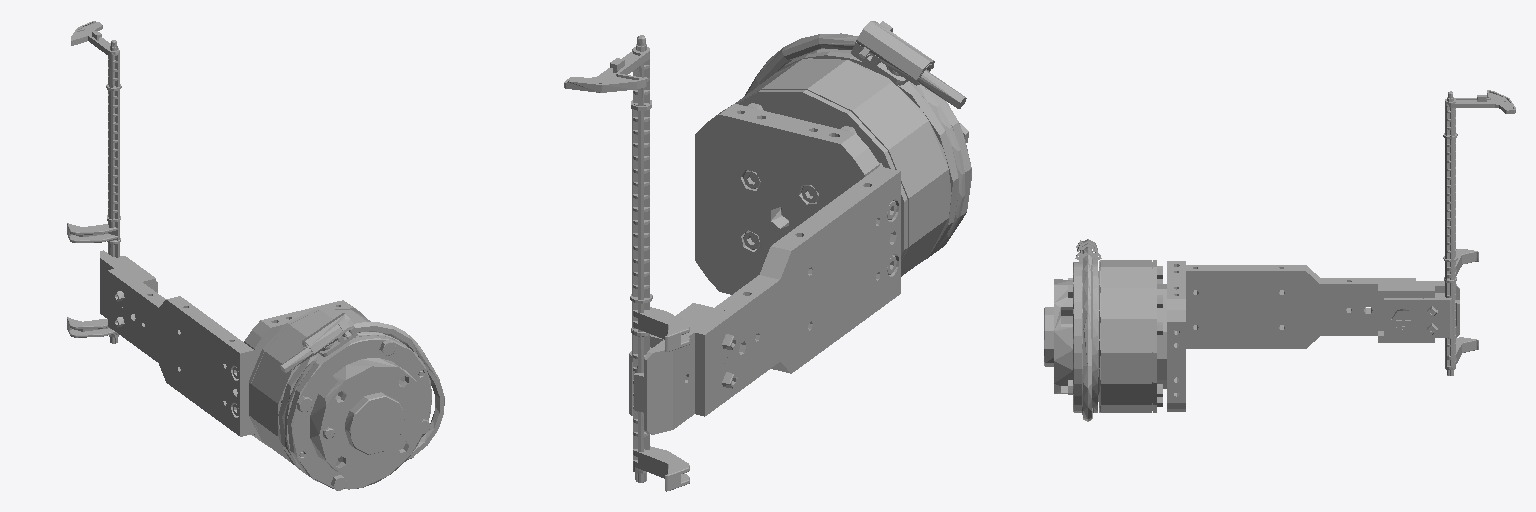
URDF robot description (ur5e_gripper):
<?xml version="1.0" encoding="utf-8"?>
<!-- =================================================================================== -->
<!-- |    This document was autogenerated by xacro from ur5e_robot.urdf.xacro          | -->
<!-- |    EDITING THIS FILE BY HAND IS NOT RECOMMENDED                                 | -->
<!-- =================================================================================== -->
<robot name="ur5e_gripper" xmlns:xacro="http://ros.org/wiki/xacro">
  
  <!--################################################
  ########              arm                    #######
  ####################################################-->

  <link name="base_link">
    <visual>
      <geometry>
        <mesh filename="package://moveit_resources_ur5e_description/meshes/ur5e/visual/base.dae"/>
      </geometry>
      <material name="LightGrey">
        <color rgba="0.7 0.7 0.7 1.0"/>
      </material>
    </visual>
    <collision>
      <geometry>
        <mesh filename="package://moveit_resources_ur5e_description/meshes/ur5e/collision/base.stl" scale="1.0 1.0 1.0"/>
      </geometry>
    </collision>
    <inertial>
      <mass value="4.0"/>
      <origin rpy="0 0 0" xyz="0.0 0.0 0.0"/>
      <inertia ixx="0.00443333156" ixy="0.0" ixz="0.0" iyy="0.00443333156" iyz="0.0" izz="0.0072"/>
    </inertial>
  </link>
  <joint name="shoulder_pan_joint" type="revolute">
    <parent link="base_link"/>
    <child link="shoulder_link"/>
    <origin rpy="0.0 0.0 0.0" xyz="0.0 0.0 0.163"/>
    <axis xyz="0 0 1"/>
    <limit effort="150.0" lower="-6.28318530718" upper="6.28318530718" velocity="3.14"/>
    <dynamics damping="0.0" friction="0.0"/>
  </joint>
  <link name="shoulder_link">
    <visual>
      <geometry>
        <mesh filename="package://moveit_resources_ur5e_description/meshes/ur5e/visual/shoulder.dae"/>
      </geometry>
      <material name="LightGrey">
        <color rgba="0.7 0.7 0.7 1.0"/>
      </material>
    </visual>
    <collision>
      <geometry>
        <mesh filename="package://moveit_resources_ur5e_description/meshes/ur5e/collision/shoulder.stl" scale="1.0 1.0 1.0"/>
      </geometry>
    </collision>
    <inertial>
      <mass value="3.7"/>
      <origin rpy="0 0 0" xyz="0.0 0.0 0.0"/>
      <inertia ixx="0.010267495893" ixy="0.0" ixz="0.0" iyy="0.010267495893" iyz="0.0" izz="0.00666"/>
    </inertial>
  </link>
  <joint name="shoulder_lift_joint" type="revolute">
    <parent link="shoulder_link"/>
    <child link="upper_arm_link"/>
    <origin rpy="0.0 1.57079632679 0.0" xyz="0.0 0.138 0.0"/>
    <axis xyz="0 1 0"/>
    <limit effort="150.0" lower="-6.28318530718" upper="6.28318530718" velocity="3.14"/>
    <dynamics damping="0.0" friction="0.0"/>
  </joint>
  <link name="upper_arm_link">
    <visual>
      <geometry>
        <mesh filename="package://moveit_resources_ur5e_description/meshes/ur5e/visual/upperarm.dae"/>
      </geometry>
      <material name="LightGrey">
        <color rgba="0.7 0.7 0.7 1.0"/>
      </material>
    </visual>
    <collision>
      <geometry>
        <mesh filename="package://moveit_resources_ur5e_description/meshes/ur5e/collision/upperarm.stl" scale="1.0 1.0 1.0"/>
      </geometry>
    </collision>
    <inertial>
      <mass value="8.393"/>
      <origin rpy="0 0 0" xyz="0.0 0.0 0.2125"/>
      <inertia ixx="0.133885781862" ixy="0.0" ixz="0.0" iyy="0.133885781862" iyz="0.0" izz="0.0151074"/>
    </inertial>
  </link>
  <joint name="elbow_joint" type="revolute">
    <parent link="upper_arm_link"/>
    <child link="forearm_link"/>
    <origin rpy="0.0 0.0 0.0" xyz="0.0 -0.131 0.425"/>
    <axis xyz="0 1 0"/>
    <limit effort="150.0" lower="-3.14159265359" upper="3.14159265359" velocity="3.14"/>
    <dynamics damping="0.0" friction="0.0"/>
  </joint>
  <link name="forearm_link">
    <visual>
      <geometry>
        <mesh filename="package://moveit_resources_ur5e_description/meshes/ur5e/visual/forearm.dae"/>
      </geometry>
      <material name="LightGrey">
        <color rgba="0.7 0.7 0.7 1.0"/>
      </material>
    </visual>
    <collision>
      <geometry>
        <mesh filename="package://moveit_resources_ur5e_description/meshes/ur5e/collision/forearm.stl" scale="1.0 1.0 1.0"/>
      </geometry>
    </collision>
    <inertial>
      <mass value="2.275"/>
      <origin rpy="0 0 0" xyz="0.0 0.0 0.196"/>
      <inertia ixx="0.0311796208615" ixy="0.0" ixz="0.0" iyy="0.0311796208615" iyz="0.0" izz="0.004095"/>
    </inertial>
  </link>
  <joint name="wrist_1_joint" type="revolute">
    <parent link="forearm_link"/>
    <child link="wrist_1_link"/>
    <origin rpy="0.0 1.57079632679 0.0" xyz="0.0 0.0 0.392"/>
    <axis xyz="0 1 0"/>
    <limit effort="28.0" lower="-6.28318530718" upper="6.28318530718" velocity="6.28"/>
    <dynamics damping="0.0" friction="0.0"/>
  </joint>
  <link name="wrist_1_link">
    <visual>
      <geometry>
        <mesh filename="package://moveit_resources_ur5e_description/meshes/ur5e/visual/wrist1.dae"/>
      </geometry>
      <material name="LightGrey">
        <color rgba="0.7 0.7 0.7 1.0"/>
      </material>
    </visual>
    <collision>
      <geometry>
        <mesh filename="package://moveit_resources_ur5e_description/meshes/ur5e/collision/wrist1.stl" scale="1.0 1.0 1.0"/>
      </geometry>
    </collision>
    <inertial>
      <mass value="1.219"/>
      <origin rpy="0 0 0" xyz="0.0 0.127 0.0"/>
      <inertia ixx="0.00255989897604" ixy="0.0" ixz="0.0" iyy="0.00255989897604" iyz="0.0" izz="0.0021942"/>
    </inertial>
  </link>
  <joint name="wrist_2_joint" type="revolute">
    <parent link="wrist_1_link"/>
    <child link="wrist_2_link"/>
    <origin rpy="0.0 0.0 0.0" xyz="0.0 0.127 0.0"/>
    <axis xyz="0 0 1"/>
    <limit effort="28.0" lower="-6.28318530718" upper="6.28318530718" velocity="6.28"/>
    <dynamics damping="0.0" friction="0.0"/>
  </joint>
  <link name="wrist_2_link">
    <visual>
      <geometry>
        <mesh filename="package://moveit_resources_ur5e_description/meshes/ur5e/visual/wrist2.dae"/>
      </geometry>
      <material name="LightGrey">
        <color rgba="0.7 0.7 0.7 1.0"/>
      </material>
    </visual>
    <collision>
      <geometry>
        <mesh filename="package://moveit_resources_ur5e_description/meshes/ur5e/collision/wrist2.stl" scale="1.0 1.0 1.0"/>
      </geometry>
    </collision>
    <inertial>
      <mass value="1.219"/>
      <origin rpy="0 0 0" xyz="0.0 0.0 0.1"/>
      <inertia ixx="0.00255989897604" ixy="0.0" ixz="0.0" iyy="0.00255989897604" iyz="0.0" izz="0.0021942"/>
    </inertial>
  </link>
  <joint name="wrist_3_joint" type="revolute">
    <parent link="wrist_2_link"/>
    <child link="wrist_3_link"/>
    <origin rpy="0.0 0.0 0.0" xyz="0.0 0.0 0.1"/>
    <axis xyz="0 1 0"/>
    <limit effort="28.0" lower="-6.28318530718" upper="6.28318530718" velocity="6.28"/>
    <dynamics damping="0.0" friction="3.0"/>
  </joint>
  <link name="wrist_3_link">
    <visual>
      <geometry>
        <mesh filename="package://moveit_resources_ur5e_description/meshes/ur5e/visual/wrist3_og.dae"/>
      </geometry>
      <material name="LightGrey">
        <color rgba="0.7 0.7 0.7 1.0"/>
      </material>
    </visual>
    <collision>
      <geometry>
        <mesh filename="package://moveit_resources_ur5e_description/meshes/ur5e/collision/wrist3_og.stl" scale="1.0 1.0 1.0"/>
      </geometry>
    </collision>
    <inertial>
      <mass value="0.1879"/>
      <origin rpy="1.57079632679 0 0" xyz="0.0 0.0771 0.0"/>
      <inertia ixx="9.89041005217e-05" ixy="0.0" ixz="0.0" iyy="9.89041005217e-05" iyz="0.0" izz="0.0001321171875"/>
    </inertial>
  </link>
  <joint name="ee_fixed_joint" type="fixed">
    <parent link="wrist_3_link"/>
    <child link="ee_link"/>
    <origin rpy="0.0 0.0 1.57079632679" xyz="0.0 0.1 0.0"/>
  </joint>
  <link name="ee_link">
    <collision>
      <geometry>
        <box size="0.01 0.01 0.01"/>
      </geometry>
      <origin rpy="0 0 0" xyz="-0.01 0 0"/>
    </collision>
  </link>

  <transmission name="shoulder_pan_trans">
    <type>transmission_interface/SimpleTransmission</type>
    <joint name="shoulder_pan_joint">
      <hardwareInterface>hardware_interface/PositionJointInterface</hardwareInterface>
    </joint>
    <actuator name="shoulder_pan_motor">
      <mechanicalReduction>1</mechanicalReduction>
    </actuator>
  </transmission>
  <transmission name="shoulder_lift_trans">
    <type>transmission_interface/SimpleTransmission</type>
    <joint name="shoulder_lift_joint">
      <hardwareInterface>hardware_interface/PositionJointInterface</hardwareInterface>
    </joint>
    <actuator name="shoulder_lift_motor">
      <mechanicalReduction>1</mechanicalReduction>
    </actuator>
  </transmission>
  <transmission name="elbow_trans">
    <type>transmission_interface/SimpleTransmission</type>
    <joint name="elbow_joint">
      <hardwareInterface>hardware_interface/PositionJointInterface</hardwareInterface>
    </joint>
    <actuator name="elbow_motor">
      <mechanicalReduction>1</mechanicalReduction>
    </actuator>
  </transmission>
  <transmission name="wrist_1_trans">
    <type>transmission_interface/SimpleTransmission</type>
    <joint name="wrist_1_joint">
      <hardwareInterface>hardware_interface/PositionJointInterface</hardwareInterface>
    </joint>
    <actuator name="wrist_1_motor">
      <mechanicalReduction>1</mechanicalReduction>
    </actuator>
  </transmission>
  <transmission name="wrist_2_trans">
    <type>transmission_interface/SimpleTransmission</type>
    <joint name="wrist_2_joint">
      <hardwareInterface>hardware_interface/PositionJointInterface</hardwareInterface>
    </joint>
    <actuator name="wrist_2_motor">
      <mechanicalReduction>1</mechanicalReduction>
    </actuator>
  </transmission>
  <transmission name="wrist_3_trans">
    <type>transmission_interface/SimpleTransmission</type>
    <joint name="wrist_3_joint">
      <hardwareInterface>hardware_interface/PositionJointInterface</hardwareInterface>
    </joint>
    <actuator name="wrist_3_motor">
      <mechanicalReduction>1</mechanicalReduction>
    </actuator>
  </transmission>
  <gazebo reference="shoulder_link">
    <selfCollide>true</selfCollide>
  </gazebo>
  <gazebo reference="upper_arm_link">
    <selfCollide>true</selfCollide>
  </gazebo>
  <gazebo reference="forearm_link">
    <selfCollide>true</selfCollide>
  </gazebo>
  <gazebo reference="wrist_1_link">
    <selfCollide>true</selfCollide>
  </gazebo>
  <gazebo reference="wrist_3_link">
    <selfCollide>true</selfCollide>
  </gazebo>
  <gazebo reference="wrist_2_link">
    <selfCollide>true</selfCollide>
  </gazebo>
  <gazebo reference="ee_link">
    <selfCollide>true</selfCollide>
  </gazebo>
  <!-- ROS base_link to UR 'Base' Coordinates transform -->
  <link name="base"/>
  <joint name="base_link-base_fixed_joint" type="fixed">
    <!-- NOTE: this rotation is only needed as long as base_link itself is
                 not corrected wrt the real robot (ie: rotated over 180
                 degrees)
      -->
    <origin rpy="0 0 -3.14159265359" xyz="0 0 0"/>
    <parent link="base_link"/>
    <child link="base"/>
  </joint>


    <!--################################################
  ########              gripper                  #####
  ####################################################-->

  <!-- robot -->
    <link name="forcesensor_hand_base_link">
      <visual>
        <geometry>
          <mesh filename="package://moveit_resources_ur5e_description/meshes/ur5e/visual/wrist3_fh.dae"/>
        </geometry>
        <material name="LightGrey">
            <color rgba="0.7 0.7 0.7 1.0"/>
        </material>
      </visual>
      <collision>
        <geometry>
          <mesh filename="package://moveit_resources_ur5e_description/meshes/ur5e/collision/wrist3_fh.stl"/>
        </geometry>
      </collision>
      <inertial>
        <mass value="0.636951" />
        <origin xyz="0.0 0.0 0.0" />
        <inertia ixx = "0.00380" ixy = "0.000000" ixz = "0.000000"
             iyx = "0.000000" iyy = "0.001110" iyz = "0.000000"
             izx = "0.000000" izy = "0.000000" izz = "0.001171" />
      </inertial>
    </link>

    


  <!-- Frame coincident with all-zeros TCP on UR controller -->
  <link name="tool0"/>
  <joint name="wrist_3_link-tool0_fixed_joint" type="fixed">
    <origin rpy="-1.57079632679 0 0" xyz="0 0.1 0"/>
    <parent link="wrist_3_link"/>
    <child link="tool0"/>
  </joint>

  <link name="world"/>
  <joint name="world_joint" type="fixed">
    <parent link="world"/>
    <child link="base_link"/>
    <origin rpy="0.0 0.0 0.0" xyz="0.0 0.0 0.0"/>
  </joint>
  
    <!-- connect gripper to arm -->
  <joint name="arm_gripper_joint" type="fixed">
    <parent link="wrist_3_link"/>
    <child link="forcesensor_hand_base_link"/>
    <origin rpy="0.0 0.0 0.0" xyz="0.0 0.04 0.0"/>
  </joint>
</robot>

--- Render facts (derived) ---
The picture shows the robot from 3 angles, left to right: view 1: azimuth 30°, elevation 25°; view 2: azimuth 150°, elevation 25°; view 3: azimuth 270°, elevation 25°; orthographic projection.
Model ur5e_gripper with 12 links and 11 joints (6 revolute, 5 fixed), rooted at world, posed all joints at 0.
Links seen in each view (by area): view 1: forcesensor_hand_base_link; view 2: forcesensor_hand_base_link; view 3: forcesensor_hand_base_link.
Boxes of the visible links, x1,y1,x2,y2 form: forcesensor_hand_base_link: [67, 21, 444, 490]; forcesensor_hand_base_link: [564, 21, 971, 491]; forcesensor_hand_base_link: [1044, 90, 1515, 421].
Bounding box of the posed robot: 0.0992 × 0.2459 × 0.1685 m (x, y, z).
Meshes: 8 distinct files referenced, 1 mesh visuals loaded (1 Collada DAE); not drawn: 7 (reference not matched to a file when rendering).